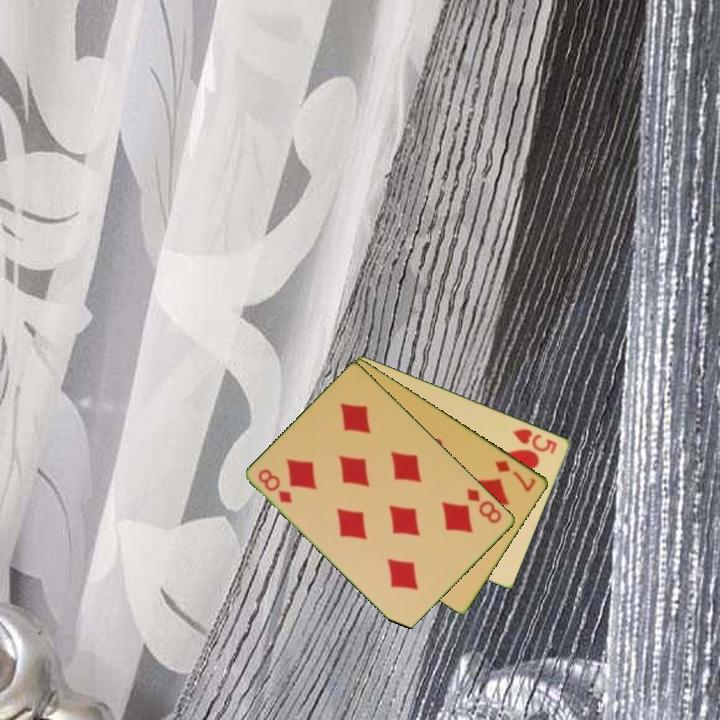5h: (510, 425, 560, 457)
7d: (492, 457, 539, 495)
8d: (463, 485, 505, 526), (255, 465, 295, 506)
